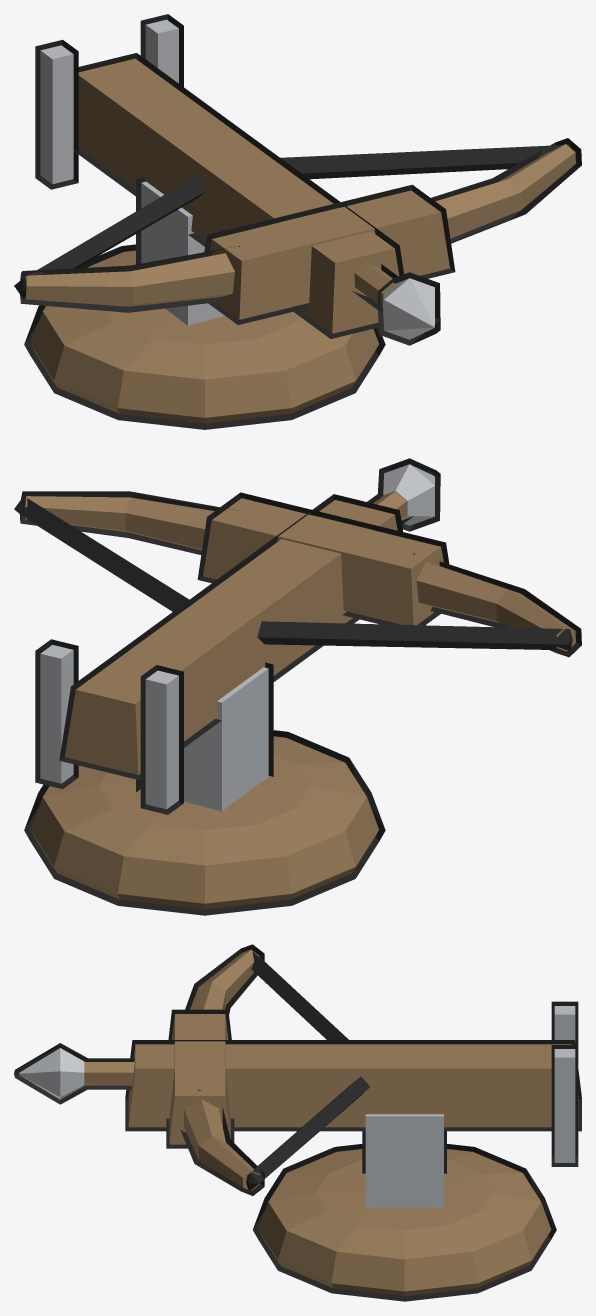
The model's file is td_castlecrossbow.fbx.
3 renders of one model, top to bottom at view 1: azimuth 30°, elevation 25°; view 2: azimuth 150°, elevation 25°; view 3: azimuth 270°, elevation 25°, orthographic. The views are drawn at different scales.
Visible parts, largest first — view 1: Prop_Ballista; view 2: Prop_Ballista; view 3: Prop_Ballista.
Part boxes in pixels (bbox=[...]): Prop_Ballista: bbox=[14, 14, 581, 429]; Prop_Ballista: bbox=[14, 458, 581, 915]; Prop_Ballista: bbox=[14, 944, 581, 1301].
Size of the model in its own units: 79.72 by 34.76 by 83.28.
